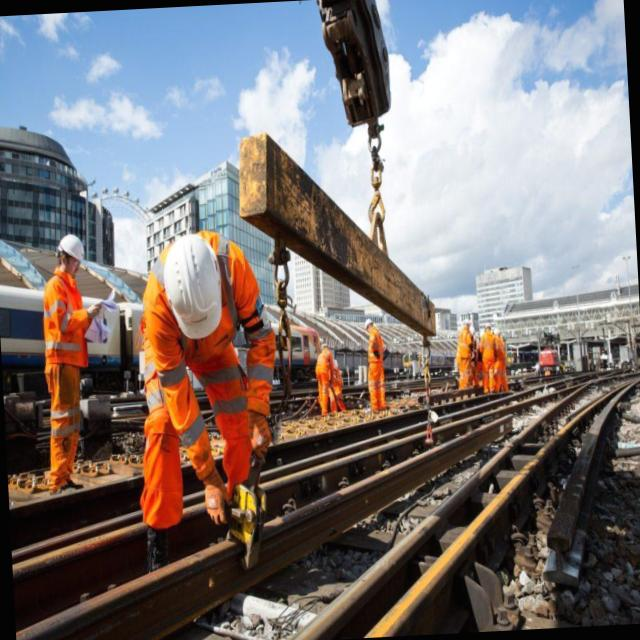helmet: (160, 231, 227, 341), (53, 222, 85, 271), (363, 314, 375, 332)
vest: (38, 277, 88, 360), (364, 331, 385, 364), (316, 350, 332, 380)
